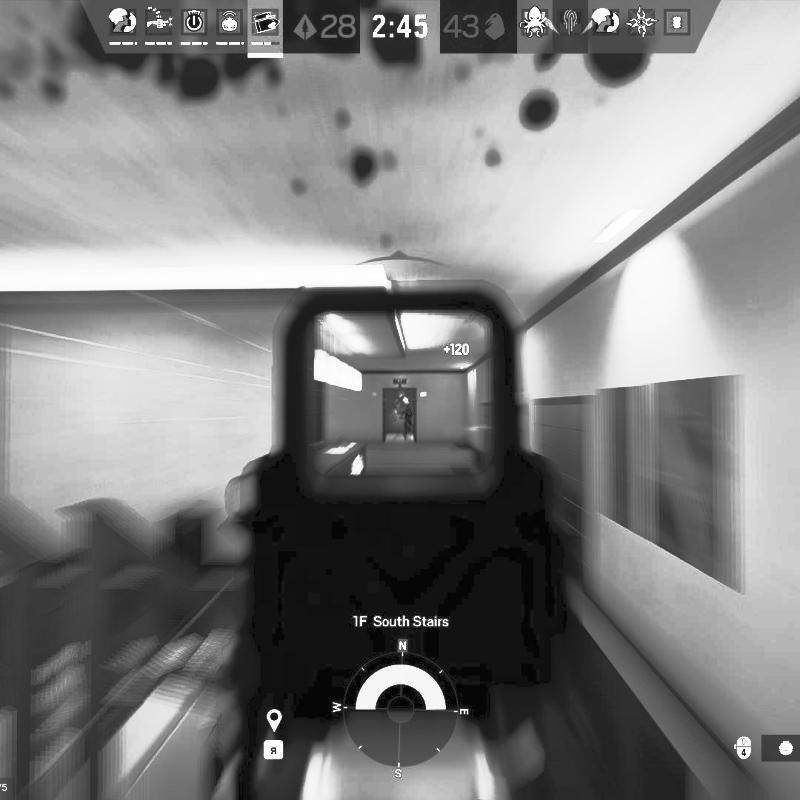Character: (402, 402, 413, 443)
Head: (405, 404, 410, 411)
